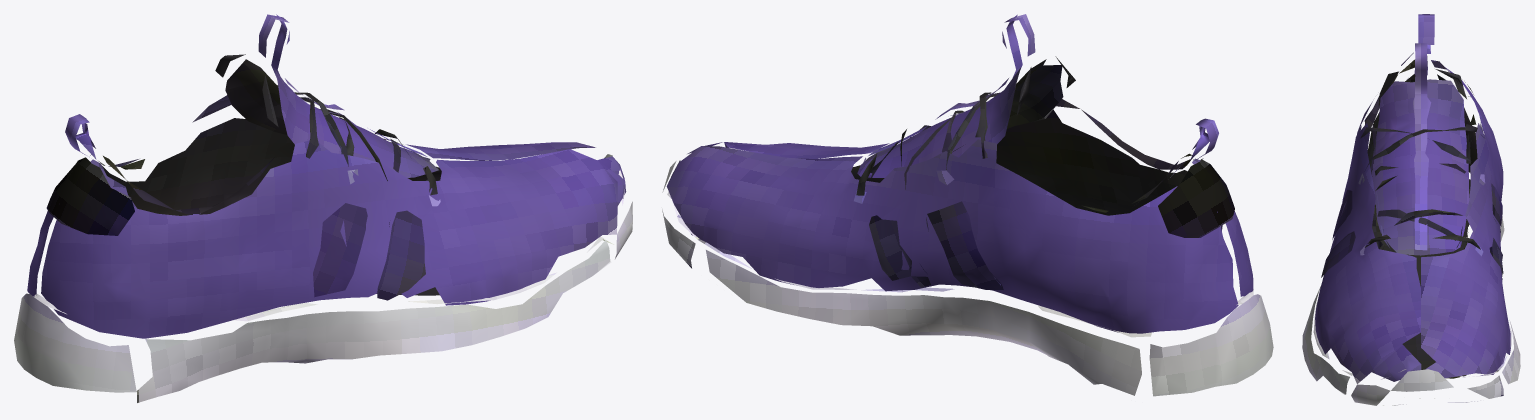
File: shoe-violet-far.glb
The picture shows the model from 3 angles, left to right: view 1: azimuth 30°, elevation 25°; view 2: azimuth 150°, elevation 25°; view 3: azimuth 270°, elevation 25°; orthographic projection. The views are drawn at different scales.
Visible parts, largest first — view 1: Shoe; view 2: Shoe; view 3: Shoe.
Part boxes in pixels (left/top/right/bottom): Shoe: left=14, top=14, right=632, bottom=402; Shoe: left=662, top=14, right=1273, bottom=396; Shoe: left=1302, top=14, right=1520, bottom=405.
Size of the model in its own units: 0.2957 by 0.1512 by 0.1145.
Materials: 1 (1 with a texture image).
